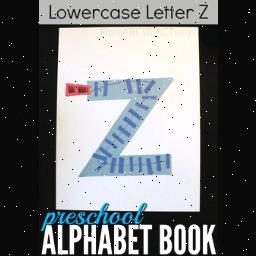z: (79, 74, 175, 186)
